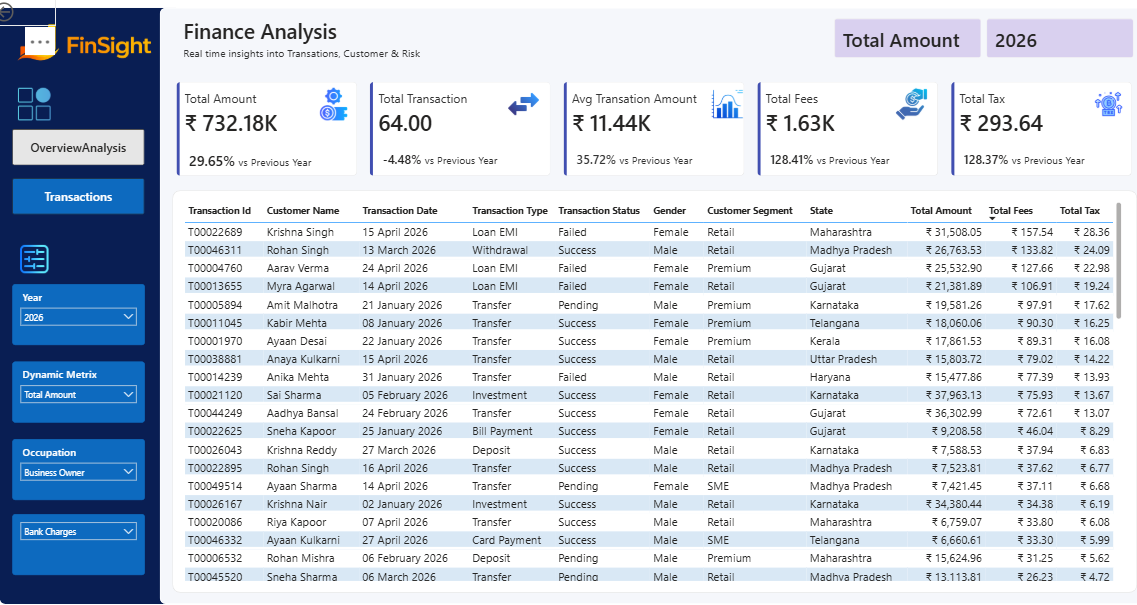

The page's visual inventory and layout, read from the dashboard file:
{"tool":"powerbi","page":{"name":"Transactions","canvas":[1800,950],"ordinal":1},"visuals":[{"type":"shape","box":[13.5,13.5,279.8,920.5],"z":0},{"type":"shape","box":[260.5,13.5,1530,920.5],"z":1000},{"type":"image","box":[32.8,13.5,227.7,108.1],"z":2000},{"type":"cardVisual","fields":{"Data":["finance_transactions.Dashboard Title"]},"box":[279.8,0,1134.7,121.6],"z":3000},{"type":"cardVisual","fields":{"Data":["finance_transactions.Total Amount","finance_transactions.Total Transation","finance_transactions.Average Transation Amount","finance_transactions.Total Fees","finance_transactions.Total Tax"]},"box":[279.8,121.6,1489.7,157],"z":4000},{"type":"slicer","fields":{"Values":["Calender Table.Year"]},"box":[32.8,440,204.5,94.6],"z":5000},{"type":"image","box":[503.6,137,50,50.2],"z":6000},{"type":"image","box":[1111.5,137,50,50.2],"z":7000},{"type":"image","box":[797,137,50,50.2],"z":8000},{"type":"image","box":[1700,137,50,50.2],"z":9000},{"type":"image","box":[1389.4,137,63.7,50.2],"z":10000},{"type":"slicer","fields":{"Values":["Dynamic Metrix.Dynamic Metrix"]},"box":[32.8,559.6,204.5,94.6],"z":11000},{"type":"shape","box":[279.8,295.2,1489.7,621.4],"z":12000},{"type":"cardVisual","fields":{"Data":["finance_transactions.Selected Dynamic Measure","finance_transactions.Selected Year"]},"box":[1296.7,25.1,472.8,71.4],"z":13000},{"type":"tableEx","fields":{"Values":["finance_transactions.transaction_id","customers.customer_name","finance_transactions.transaction_date","finance_transactions.transaction_type","finance_transactions.transaction_status","customers.gender","customers.customer_segment","customers.state","finance_transactions.Total Amount","finance_transactions.Total Fees","finance_transactions.Total Tax"]},"box":[293.3,308.7,1456.9,594.3],"z":14000},{"type":"actionButton","box":[0,0,100,40],"z":15000},{"type":"slicer","fields":{"Values":["finance_transactions.merchant_category"]},"box":[32.8,795,204.5,94.6],"z":16000},{"type":"slicer","fields":{"Values":["customers.occupation"]},"box":[32.8,679.2,204.5,94.6],"z":17000},{"type":"pageNavigator","box":[32.8,200.7,204.5,133.1],"z":18000},{"type":"image","box":[32.8,376.3,67.5,50.2],"z":18001},{"type":"image","box":[32.8,137,67.5,50.2],"z":18002}]}

Visuals, with their boxes on the page's 1800x950 design canvas (x1, y1, x2, y2). These are canvas units, not pixel positions in the 1137x605 screenshot, which may show the page scaled, cropped or inside an application window:
shape: (14,14,293,934)
shape: (260,14,1790,934)
image: (33,14,260,122)
cardVisual - finance_transactions.Dashboard Title: (280,0,1414,122)
cardVisual - finance_transactions.Total Amount x finance_transactions.Total Transation: (280,122,1770,279)
slicer - Calender Table.Year: (33,440,237,535)
image: (504,137,554,187)
image: (1112,137,1162,187)
image: (797,137,847,187)
image: (1700,137,1750,187)
image: (1389,137,1453,187)
slicer - Dynamic Metrix.Dynamic Metrix: (33,560,237,654)
shape: (280,295,1770,917)
cardVisual - finance_transactions.Selected Dynamic Measure x finance_transactions.Selected Year: (1297,25,1770,96)
tableEx - finance_transactions.transaction_id x customers.customer_name: (293,309,1750,903)
actionButton: (0,0,100,40)
slicer - finance_transactions.merchant_category: (33,795,237,890)
slicer - customers.occupation: (33,679,237,774)
pageNavigator: (33,201,237,334)
image: (33,376,100,426)
image: (33,137,100,187)
